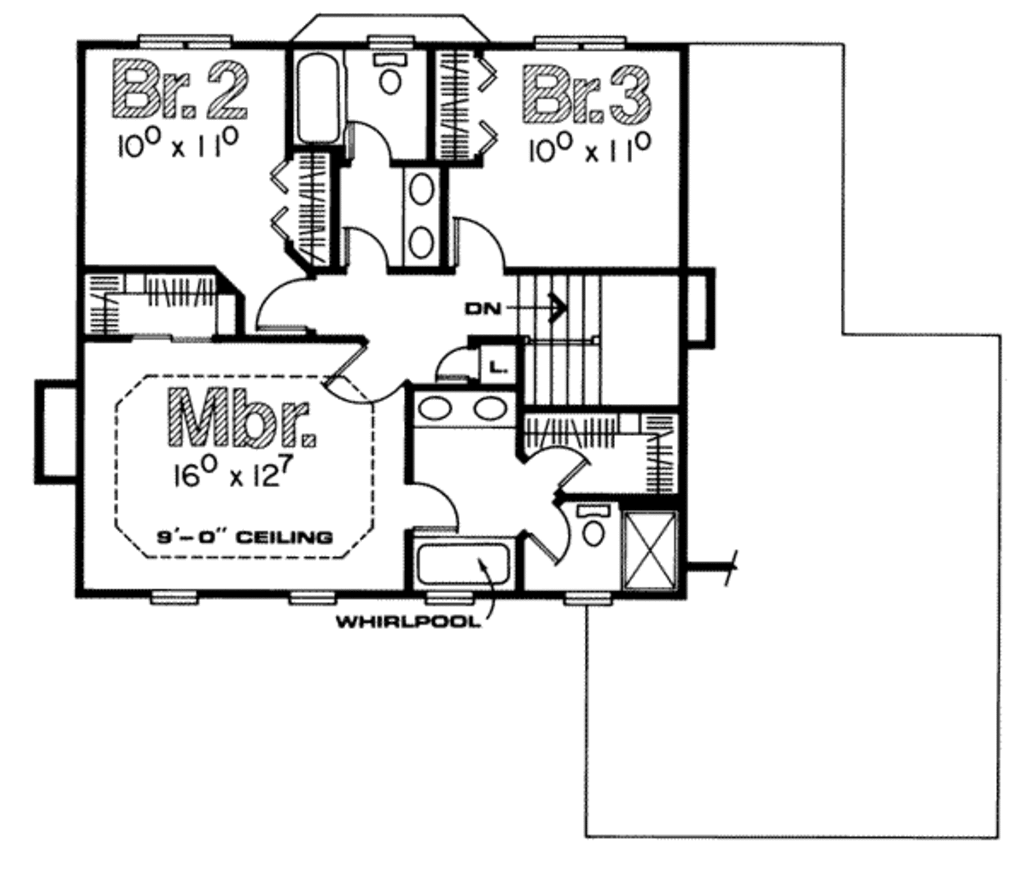door: (322, 343, 406, 409), (250, 271, 316, 331), (452, 210, 509, 275), (397, 481, 465, 535), (524, 444, 598, 493), (338, 219, 397, 278), (523, 506, 573, 569), (348, 116, 391, 173), (429, 340, 479, 387)
large_sink: (572, 501, 619, 552), (372, 52, 409, 96)
small_sink: (408, 390, 516, 432), (400, 168, 446, 265)
stairs: (514, 269, 684, 407)
tub: (293, 49, 352, 146), (408, 537, 517, 589)
window: (132, 30, 235, 57), (527, 30, 629, 56), (146, 582, 205, 612), (558, 587, 622, 614), (282, 585, 342, 612), (421, 590, 476, 610)
